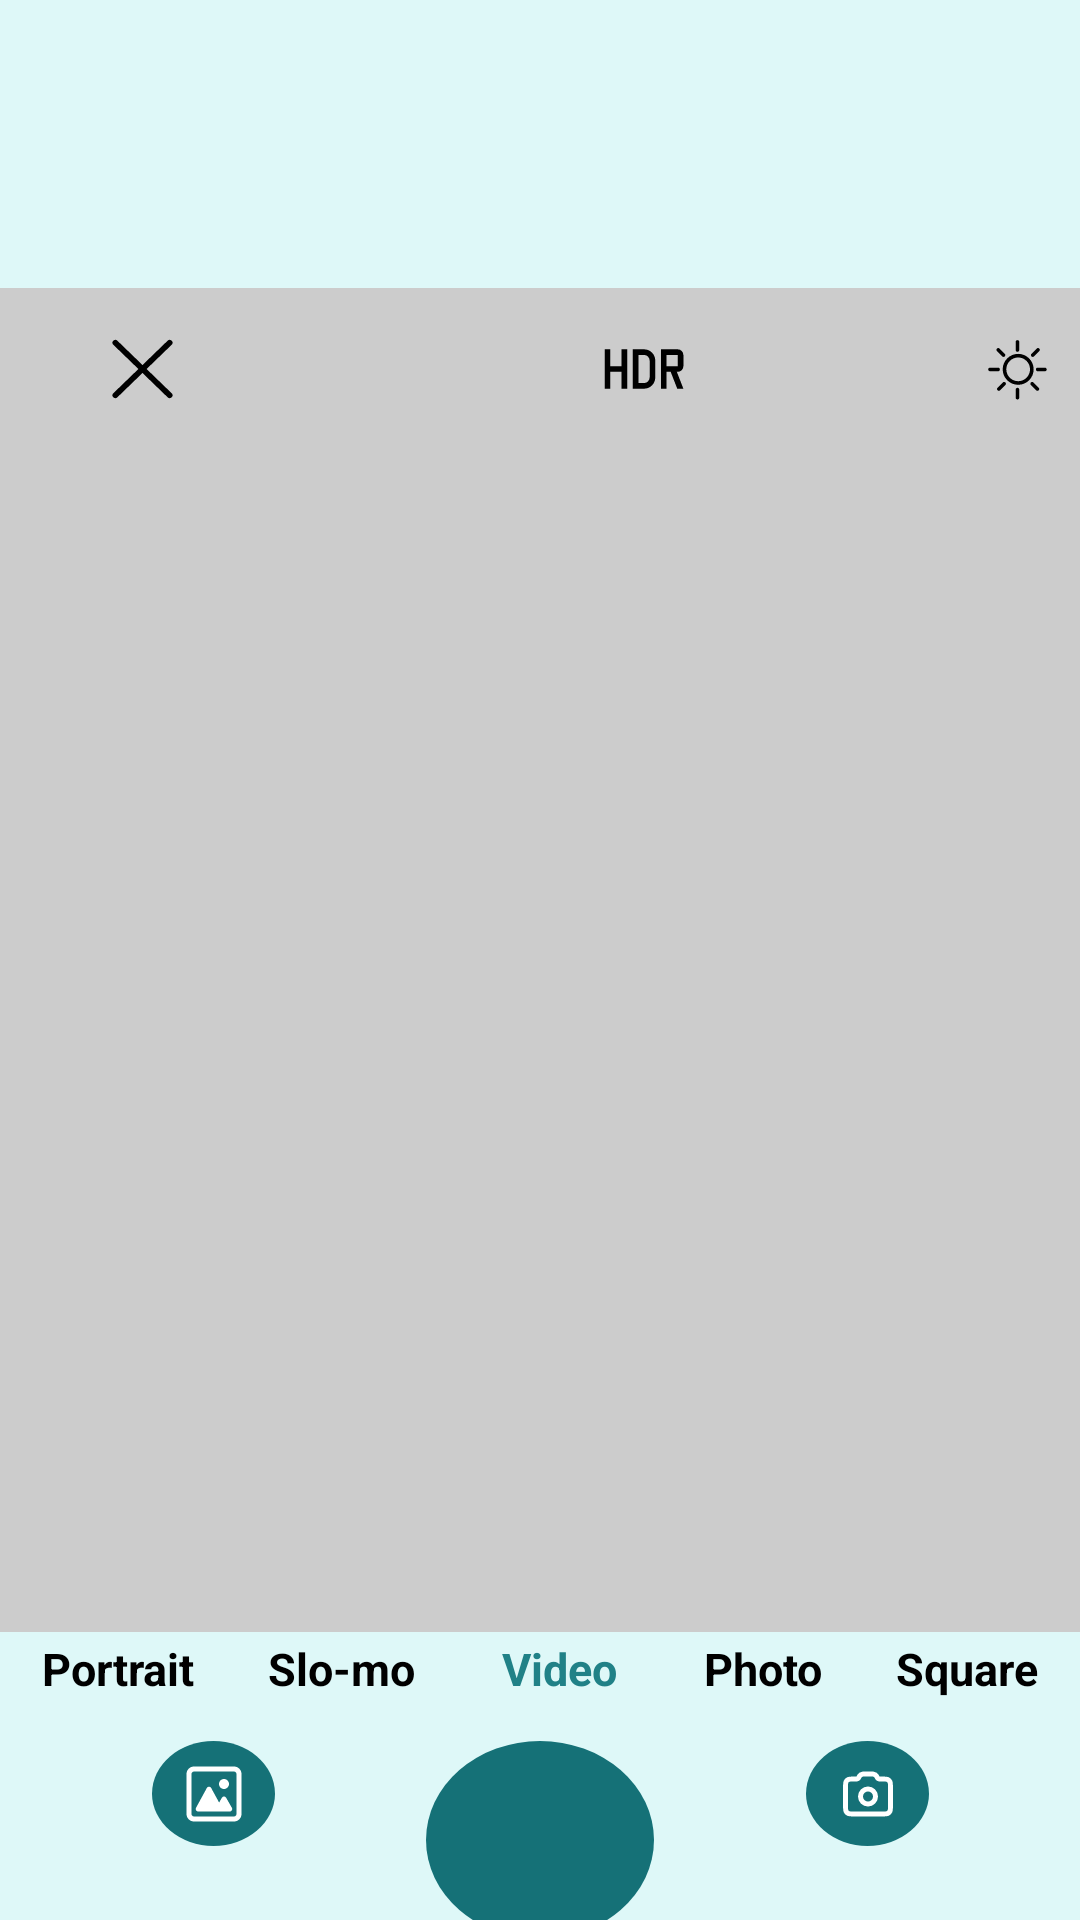

Point at icon controls on the screen. Image size 1080px×1920px, points as (x,y).
brightness: (1017,370)
camera: (867,1793)
cross: (142,369)
